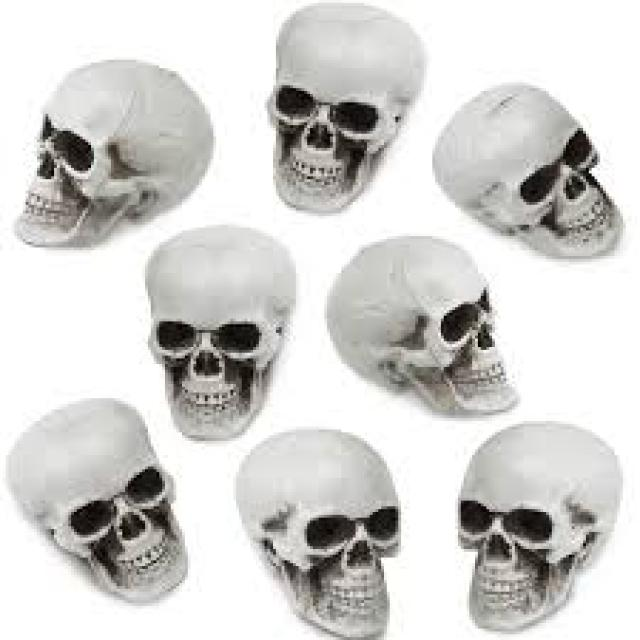skull: (7, 55, 226, 248)
